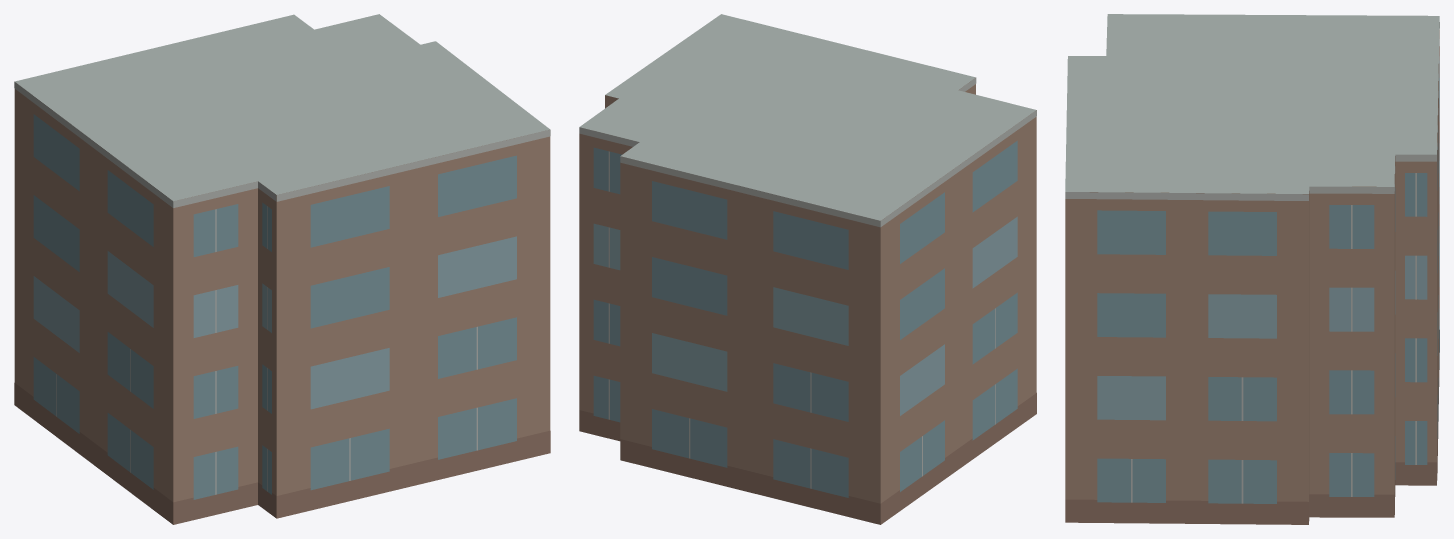
File: survey-upis-32585397.glb
3 renders of one model, left to right at view 1: azimuth 30°, elevation 25°; view 2: azimuth 150°, elevation 25°; view 3: azimuth 270°, elevation 25°, orthographic. The views are drawn at different scales.
Visible parts, largest first — view 1: survey-upis-32585397.tmp; view 2: survey-upis-32585397.tmp; view 3: survey-upis-32585397.tmp.
Part boxes in pixels (box(x1,y1,x2,y2)): survey-upis-32585397.tmp: box(14, 14, 550, 524); survey-upis-32585397.tmp: box(579, 14, 1036, 524); survey-upis-32585397.tmp: box(1065, 14, 1439, 524).
Size of the model in its own units: 13.38 by 11.45 by 11.76.
